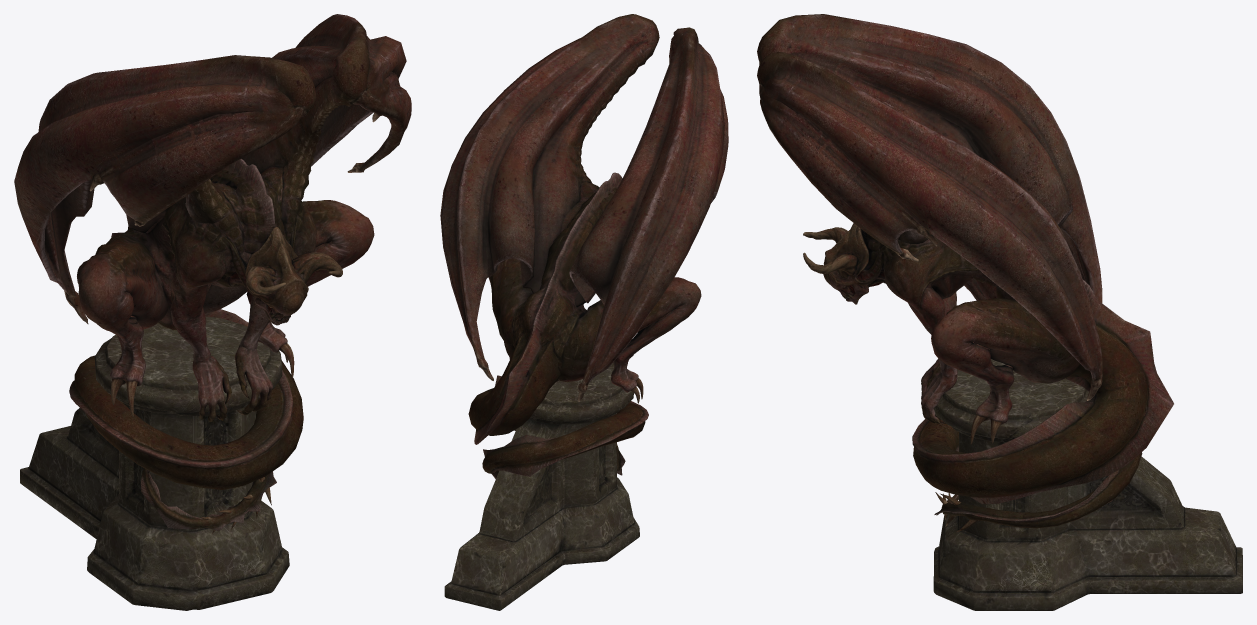
File: nightgaunt.glb
3 renders of one model, left to right at view 1: azimuth 30°, elevation 25°; view 2: azimuth 150°, elevation 25°; view 3: azimuth 270°, elevation 25°, orthographic. The views are drawn at different scales.
Parts seen in each view (by area): view 1: mesh0.dat.desirefx.me_out_3, mesh0.dat.desirefx.me_out_2, mesh0.dat.desirefx.me_out_1; view 2: mesh0.dat.desirefx.me_out_3, mesh0.dat.desirefx.me_out_2, mesh0.dat.desirefx.me_out_1; view 3: mesh0.dat.desirefx.me_out_3, mesh0.dat.desirefx.me_out_2, mesh0.dat.desirefx.me_out_1.
Boxes of the visible parts, x1,y1,x2,y2 form: mesh0.dat.desirefx.me_out_3: [14, 14, 411, 324]; mesh0.dat.desirefx.me_out_2: [69, 159, 374, 534]; mesh0.dat.desirefx.me_out_1: [20, 316, 289, 610]; mesh0.dat.desirefx.me_out_3: [440, 14, 728, 401]; mesh0.dat.desirefx.me_out_2: [468, 172, 701, 478]; mesh0.dat.desirefx.me_out_1: [444, 363, 639, 610]; mesh0.dat.desirefx.me_out_3: [757, 14, 1102, 400]; mesh0.dat.desirefx.me_out_2: [803, 223, 1173, 532]; mesh0.dat.desirefx.me_out_1: [933, 359, 1242, 610].
Bounding box in the file's own units: 3.54 × 6.22 × 5.06.
3 materials, 3 textured.
